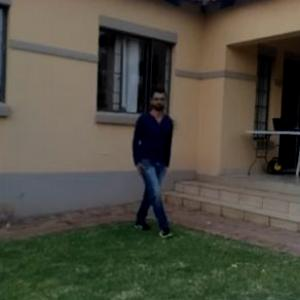follow: (122, 90, 170, 232)
